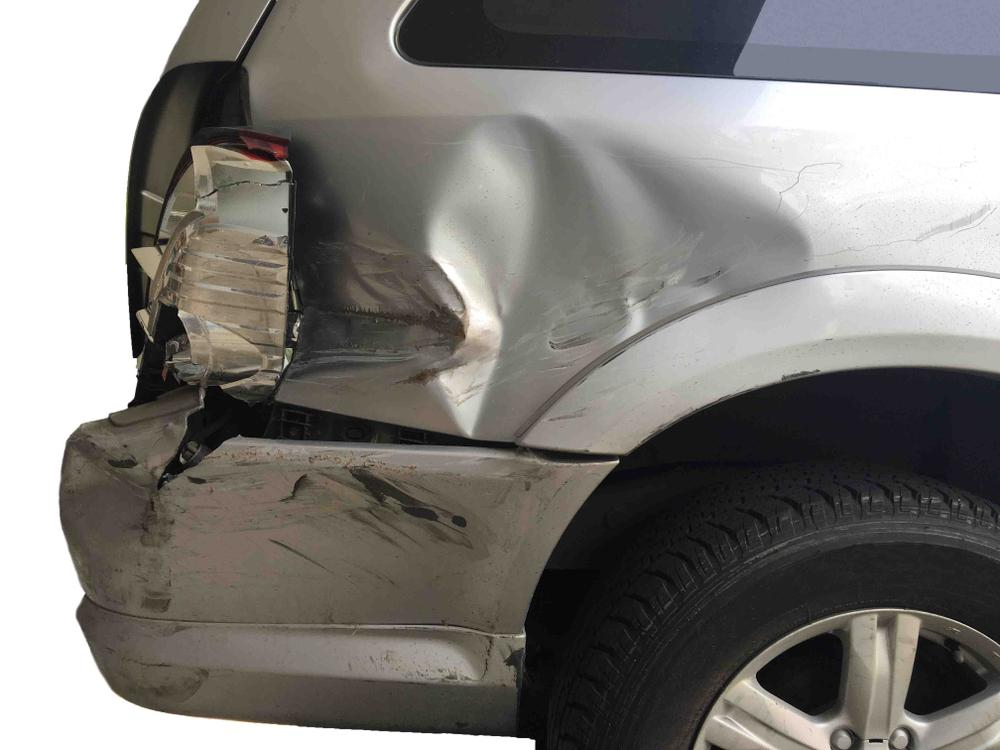crack: (157, 403, 240, 492)
dent: (286, 114, 808, 439), (60, 429, 168, 548)
lamp broken: (136, 131, 296, 397)
scratch: (189, 443, 491, 584), (82, 556, 213, 704)
